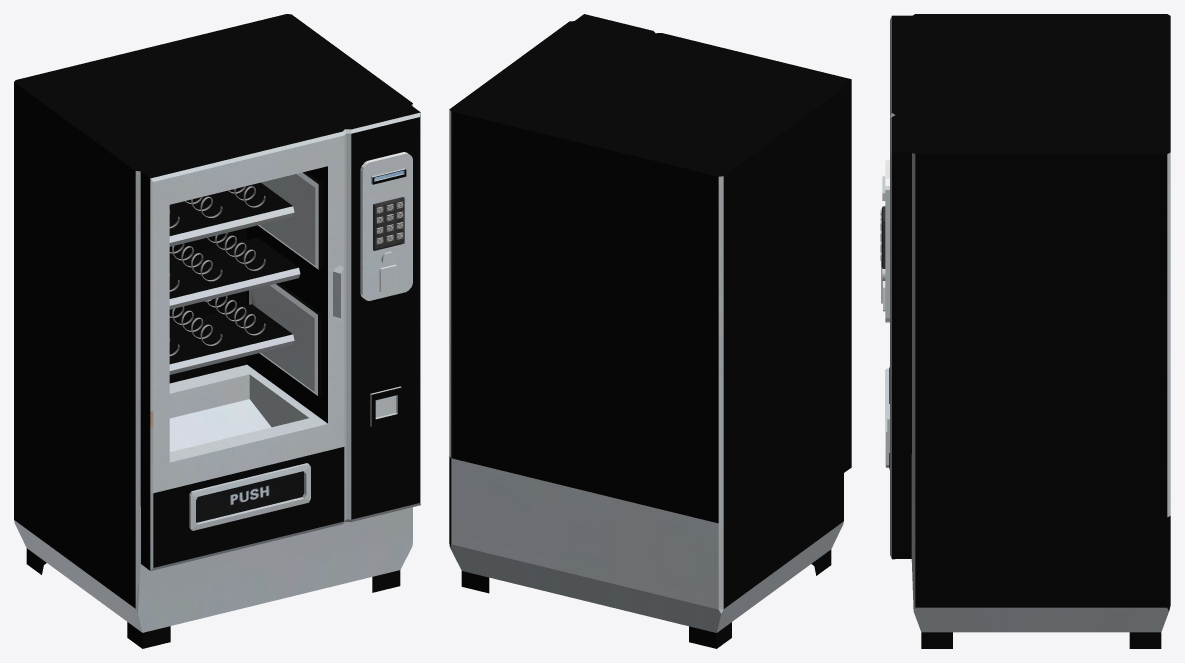
Rendered from VendingMachine.fbx.
3 renders of one model, left to right at view 1: azimuth 30°, elevation 25°; view 2: azimuth 150°, elevation 25°; view 3: azimuth 270°, elevation 25°, orthographic. The views are drawn at different scales.
Visible parts, largest first — view 1: Cube.025; view 2: Cube.025; view 3: Cube.025.
Part boxes in pixels (<box>): Cube.025: <box>14,14,420,648</box>; Cube.025: <box>449,14,851,648</box>; Cube.025: <box>880,14,1170,648</box>.
Bounding box in the file's own units: 186 × 309 × 163.
